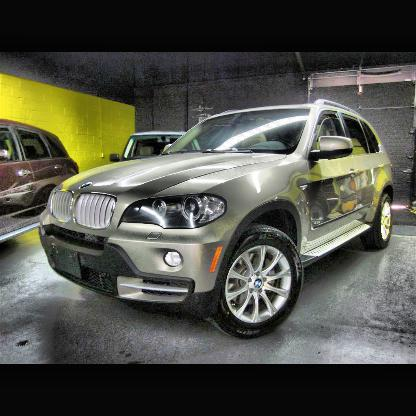BMW X5 SUV 2007: (41, 99, 394, 330)
